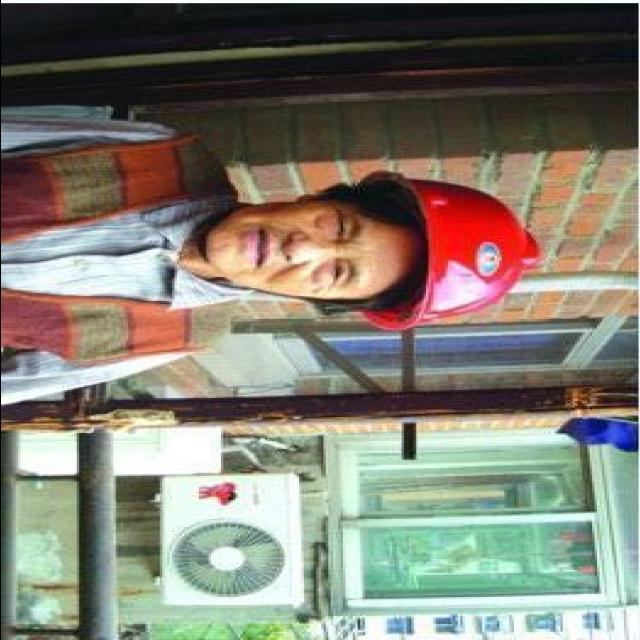helmet: (368, 166, 550, 346)
